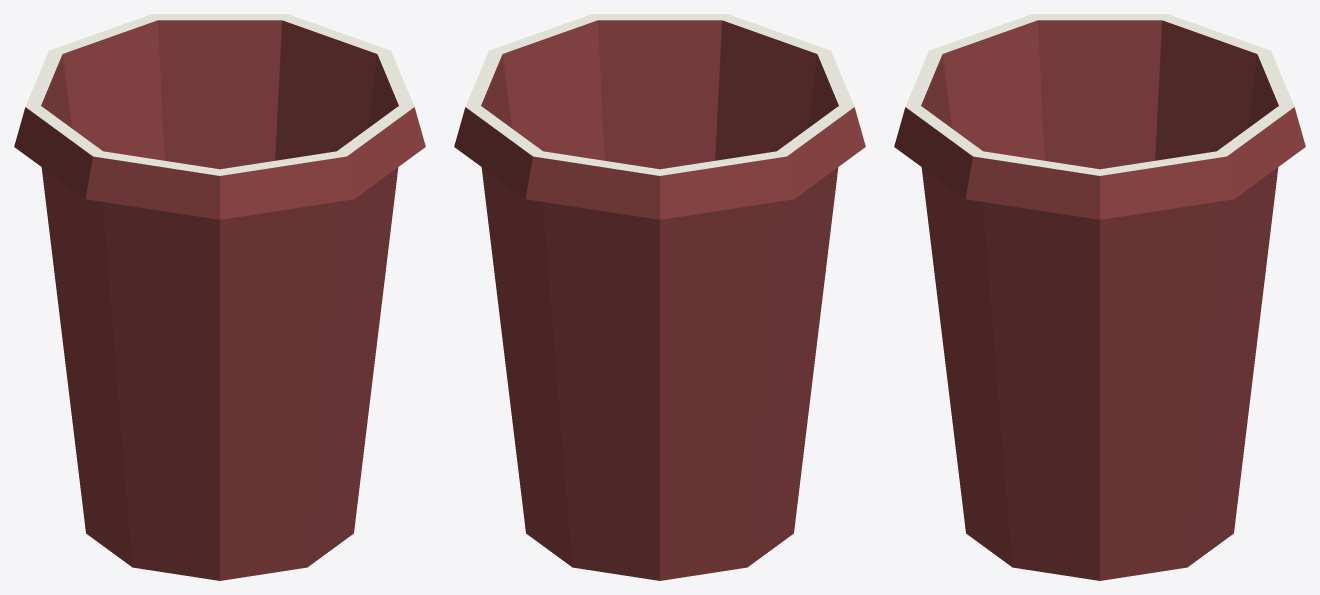
File: Party Cup.FBX
3 renders of one model, left to right at view 1: azimuth 30°, elevation 25°; view 2: azimuth 150°, elevation 25°; view 3: azimuth 270°, elevation 25°, orthographic.
Visible parts, largest first — view 1: FratCup; view 2: FratCup; view 3: FratCup.
Boxes of the visible parts, left/top/right/bottom form: FratCup: left=14, top=14, right=425, bottom=580; FratCup: left=454, top=14, right=865, bottom=580; FratCup: left=894, top=14, right=1305, bottom=580.
Bounding box in the file's own units: 49.44 × 57.98 × 50.21.
